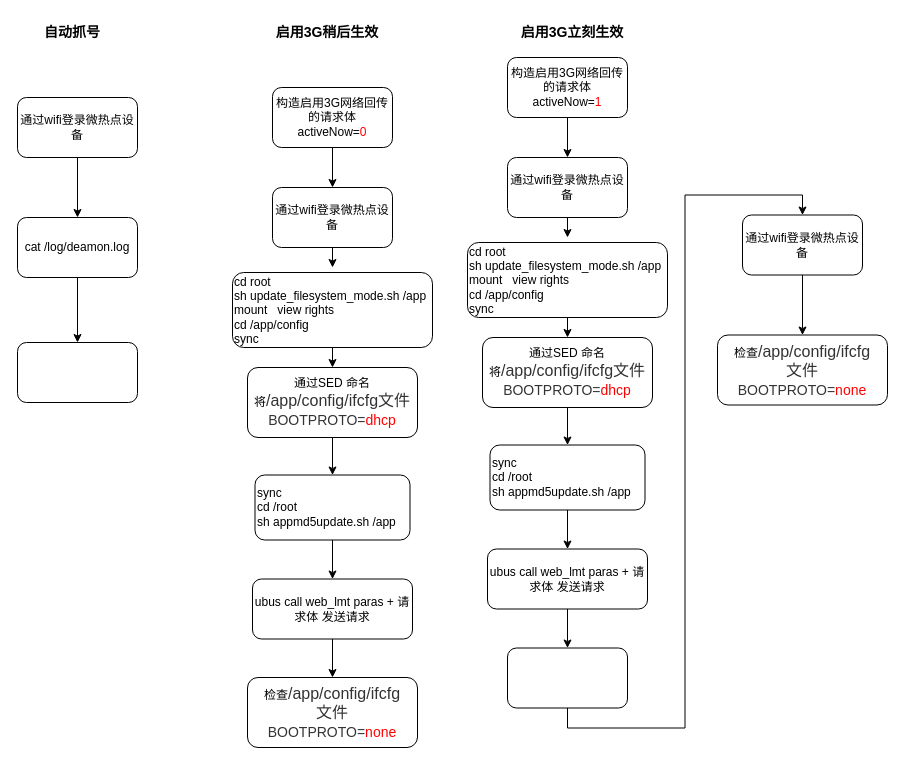
This 905x765 diagram has some shape labels left out. Here are the shapes that lost their labels. From the top down, the box of each, then its label:
(16, 342, 138, 402): 有IMSI号即为抓号成功
(506, 647, 628, 708): 等待设备重启
